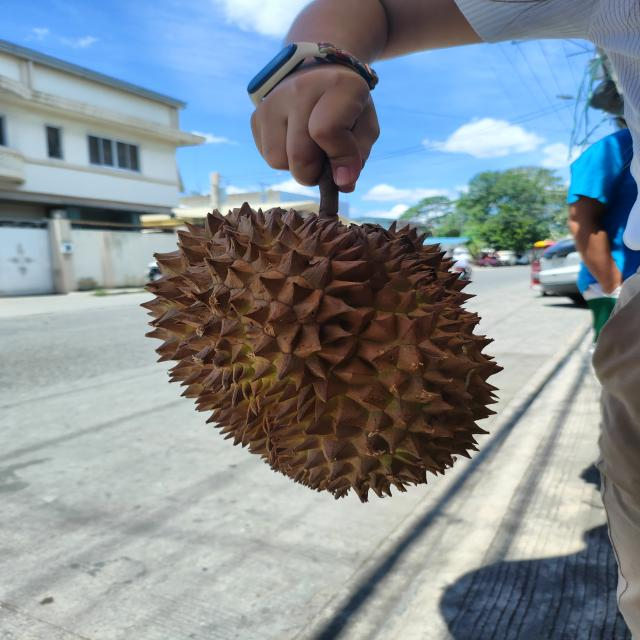mature: (139, 198, 508, 501)
